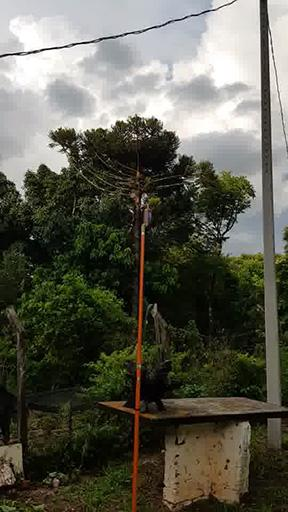Detector_Tensao_Contato: (143, 202, 151, 227)
Vara_Manobra: (131, 229, 146, 512)
